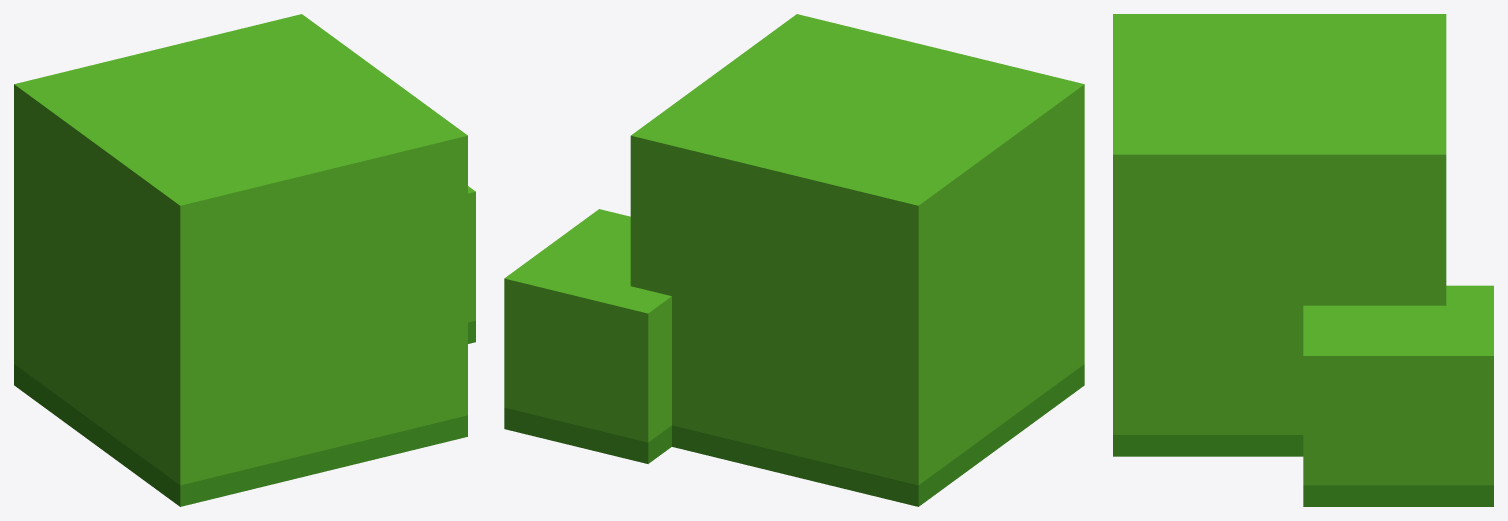
File: deco_bush_block_a.glb
3 renders of one model, left to right at view 1: azimuth 30°, elevation 25°; view 2: azimuth 150°, elevation 25°; view 3: azimuth 270°, elevation 25°, orthographic.
Parts seen in each view (by area): view 1: model_0; view 2: model_0; view 3: model_0.
Boxes of the visible parts, x1,y1,x2,y2 form: model_0: [14, 14, 475, 506]; model_0: [504, 14, 1084, 506]; model_0: [1113, 14, 1493, 506].
Bounding box in the file's own units: 0.76 × 0.56 × 0.64.
